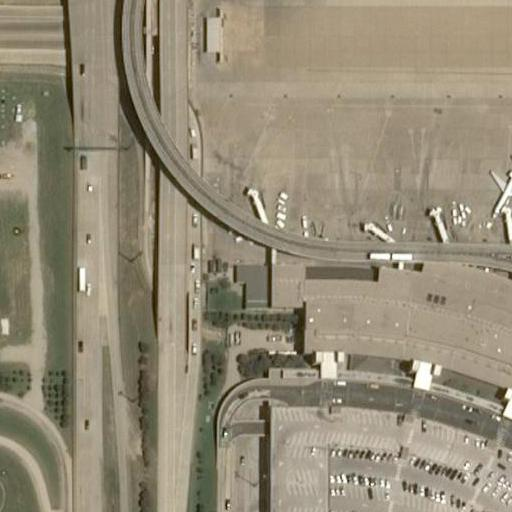Aircraft: (487, 153, 512, 221)
